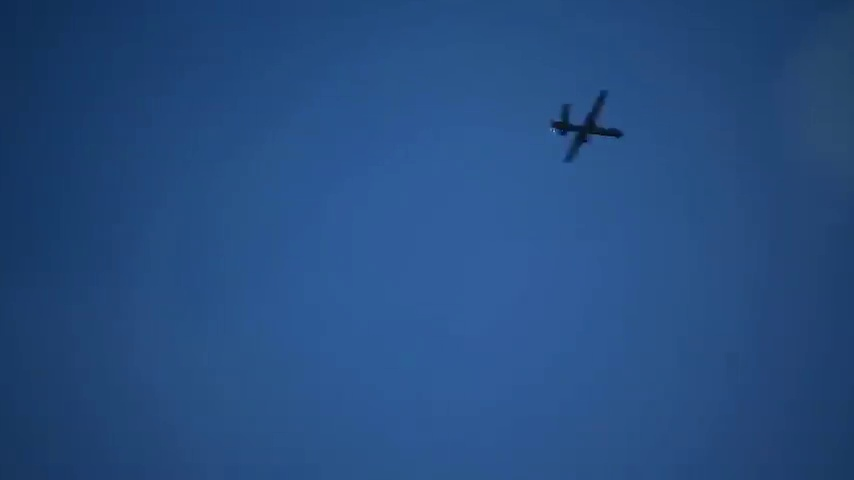military drone: (550, 89, 624, 162)
